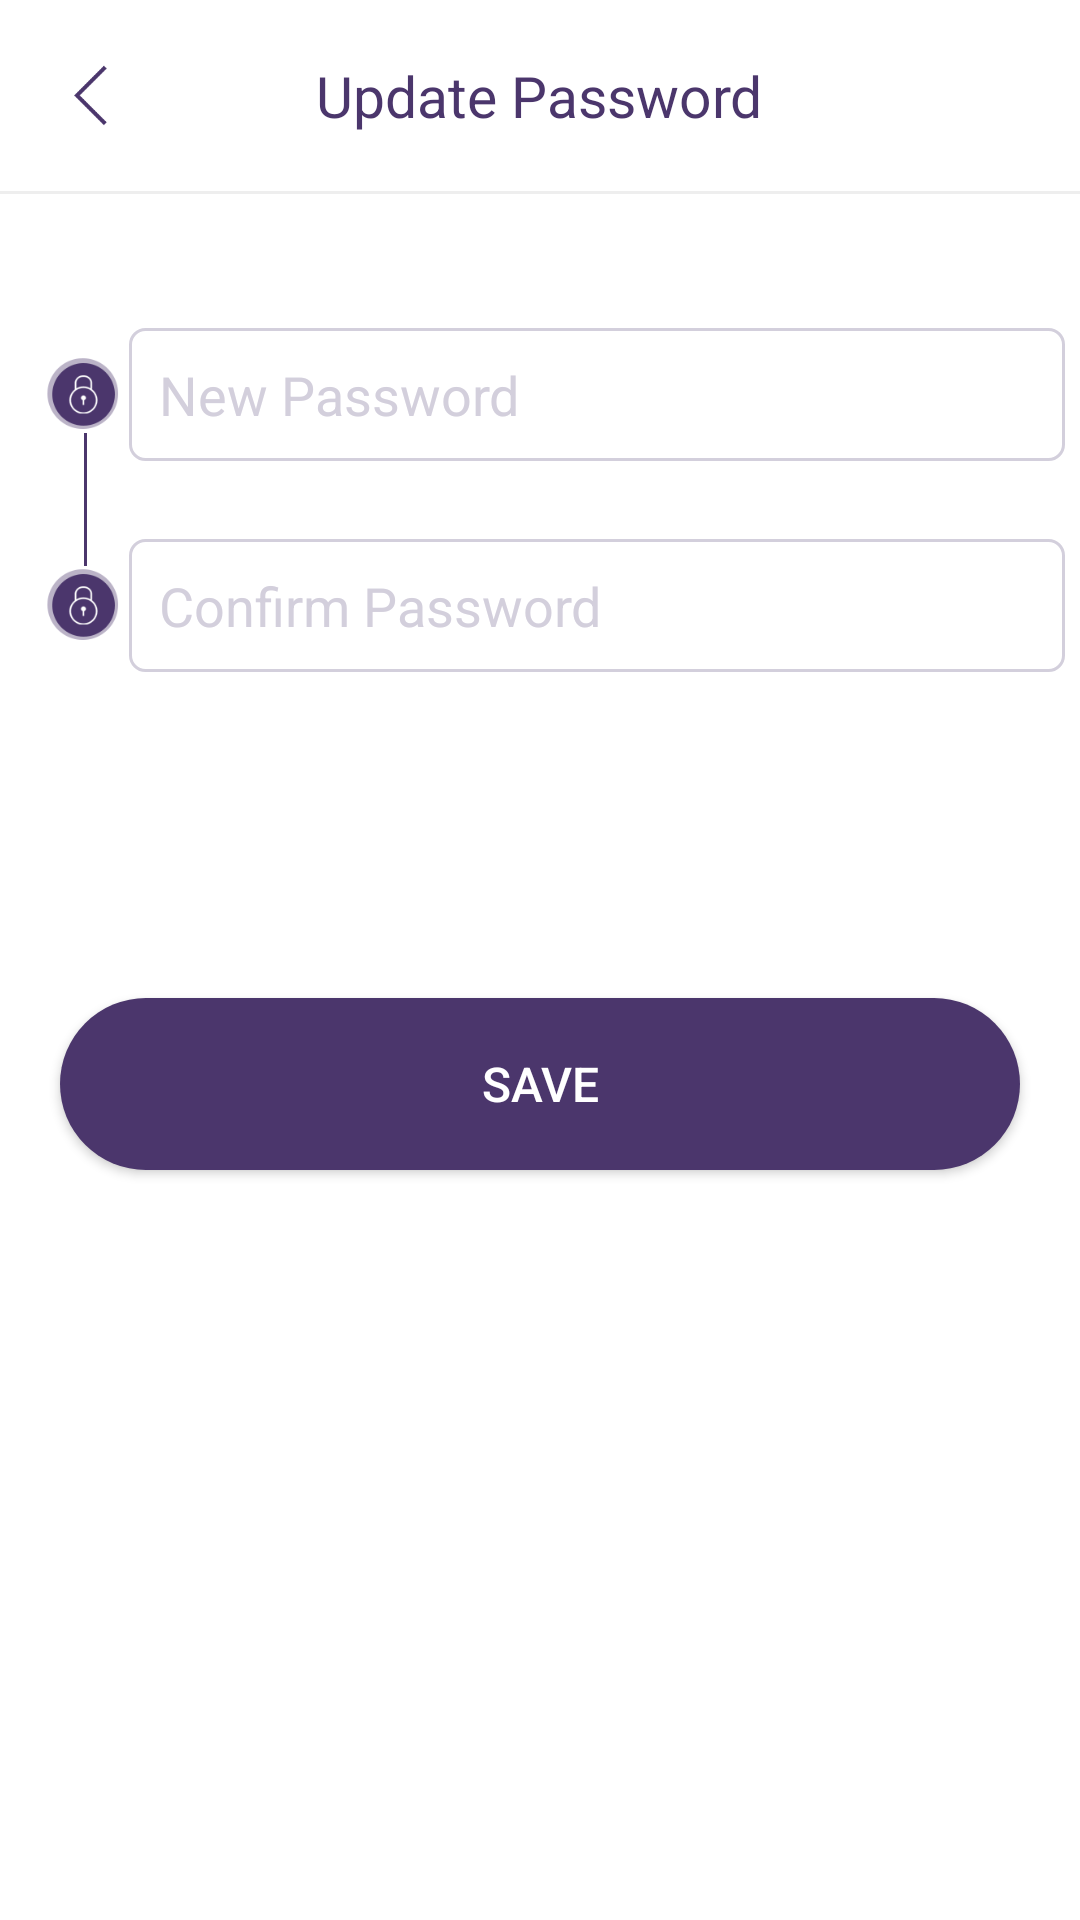

Icons on this 1080*1920 Android screen, each with its box as detection(x1, y1, x2, y2):
backbutton: detection(74, 66, 107, 125)
